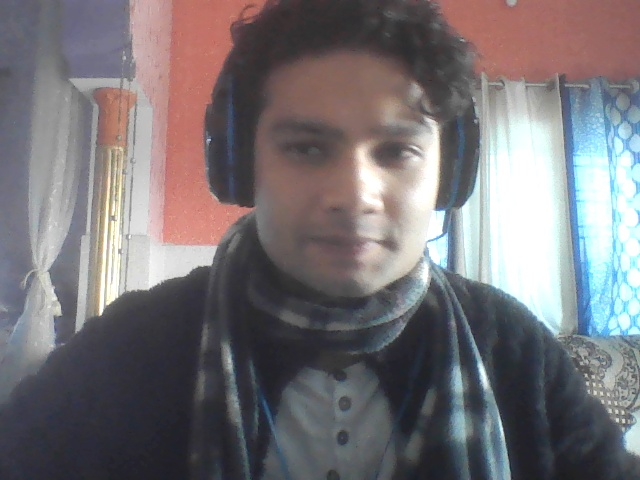real: (218, 0, 467, 353)
